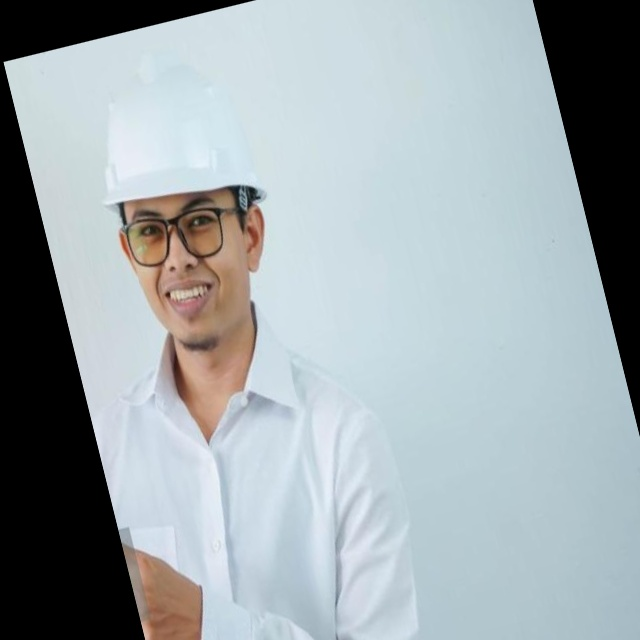Con_Casco: (68, 38, 304, 366)
Sin_Chaleco: (81, 316, 444, 640)
